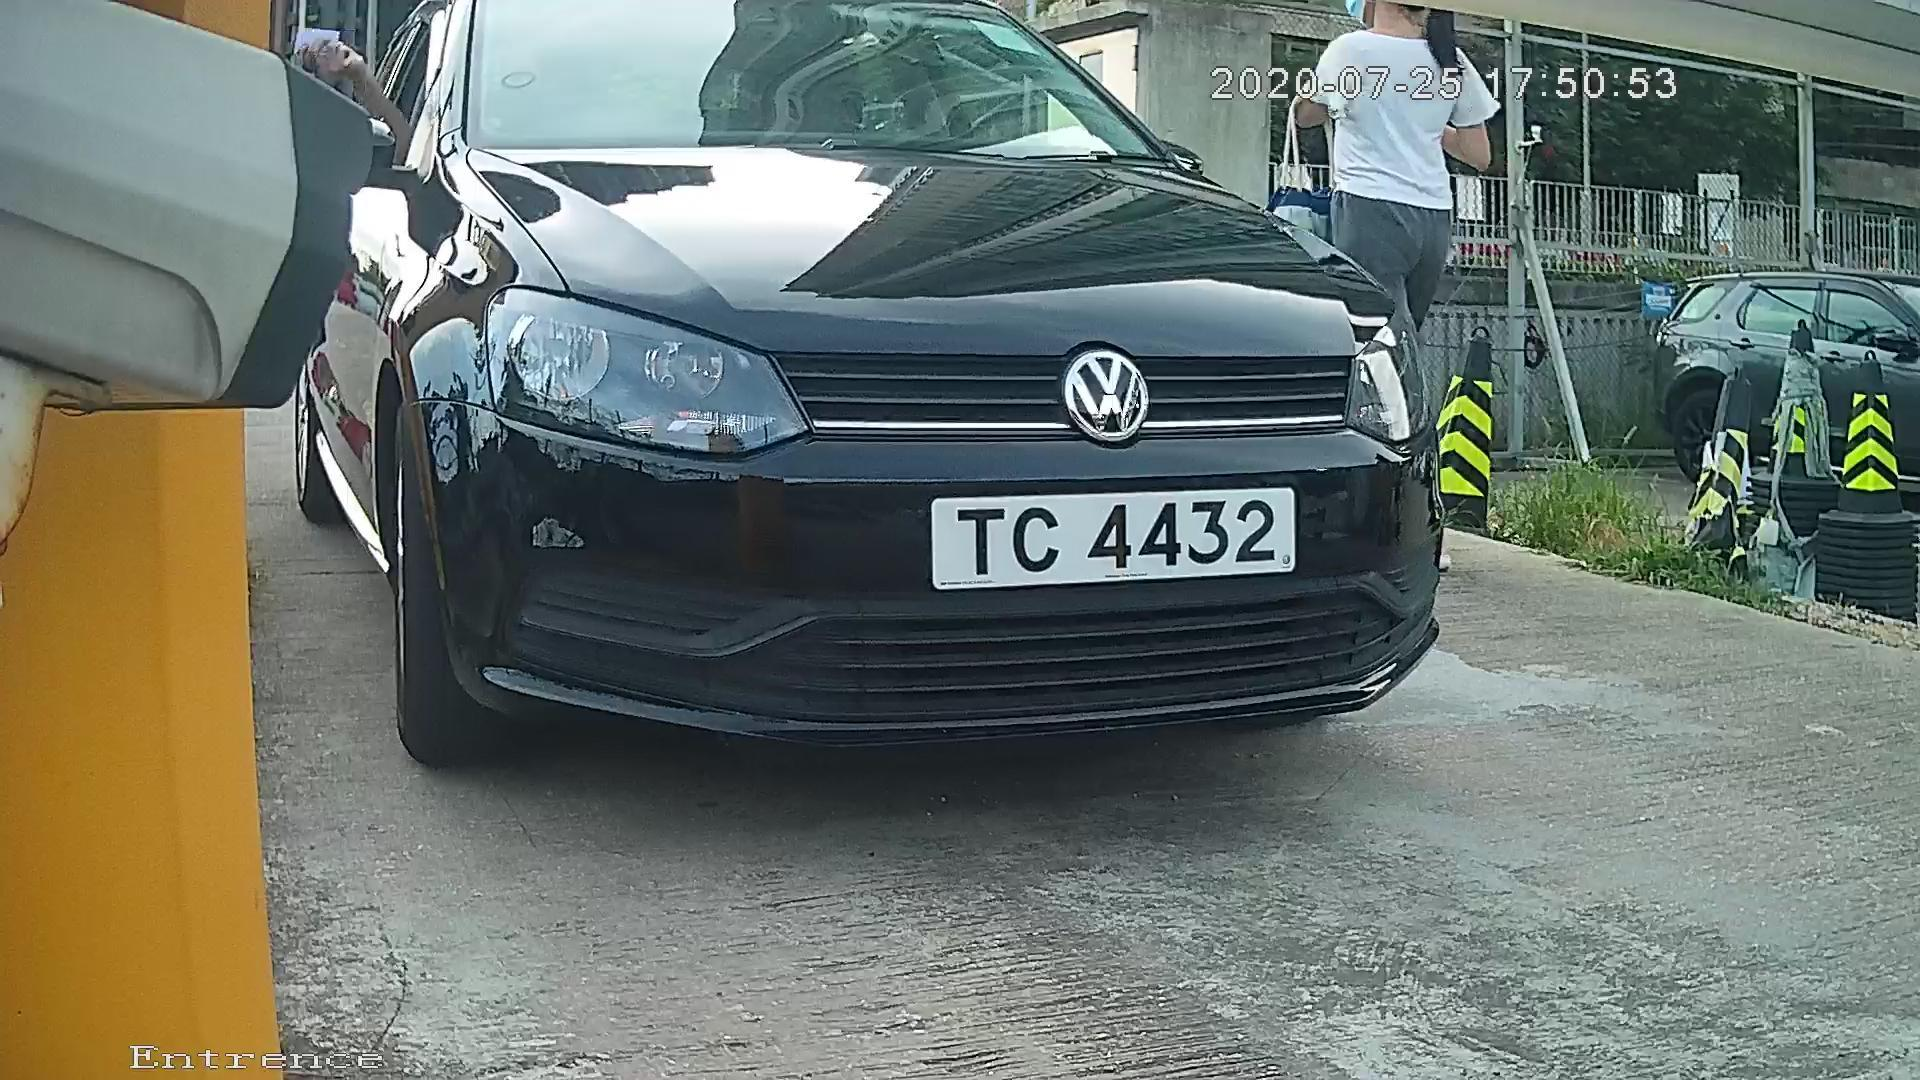privatecar: (232, 15, 1578, 806)
